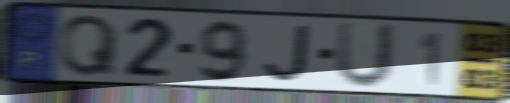1: (416, 30, 442, 87)
2: (121, 16, 179, 80)
9: (197, 18, 250, 83)
J: (262, 23, 313, 83)
Q: (59, 13, 120, 78)
U: (332, 20, 401, 91)
